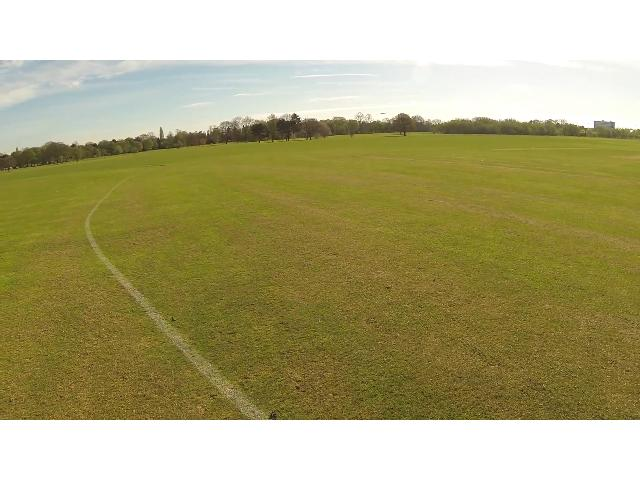Anti-Drone: (376, 110, 392, 118)
